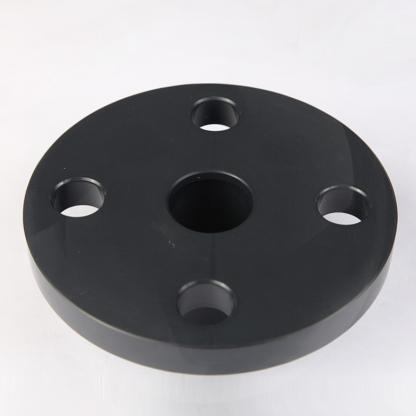FOD: (17, 79, 404, 380)
